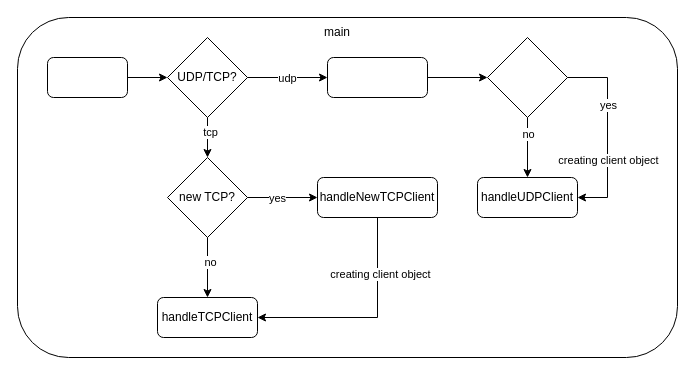
The diagram is 695 pixels wide and 375 high, and some of its shapes have lost their labels. Here are the shapes that lost their labels. From the top down, the centre of each, then its label:
the point at 87,77: client poll()
the point at 377,77: handleUDP
the point at 527,77: newUDP?
